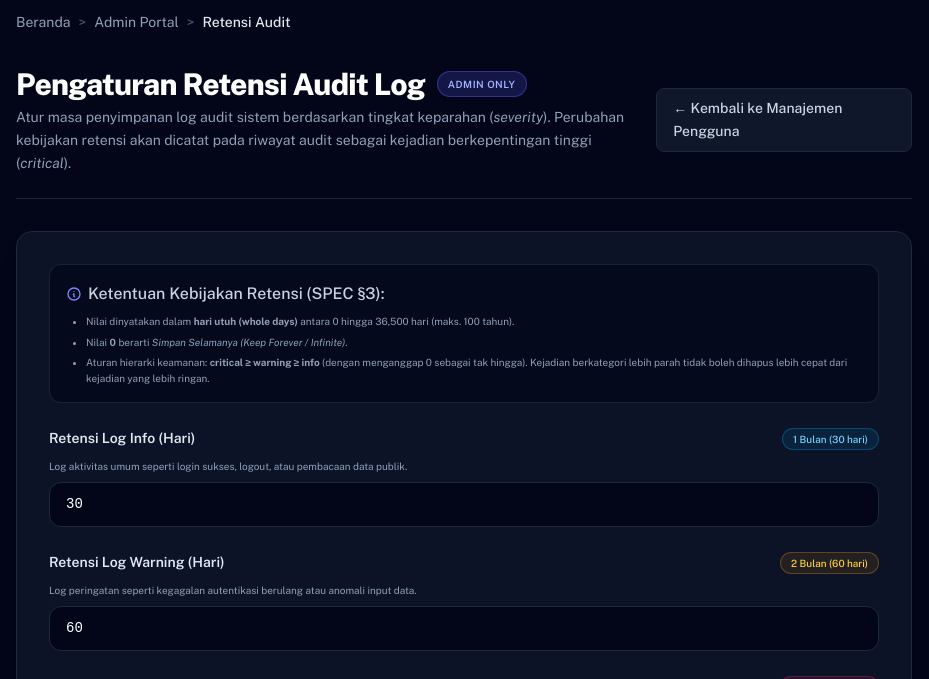
Test case: AuditRetentionSettingsView Client-Side Validation & Error Handling (Non-Happy Path) › renders dash placeholder "—" in duration badge when number input is cleared
Expected: the text with test id "badge-info" reads "1 Bulan (30 hari)", [793,433,868,445]
Note: Clear input
Clear the number field with id "retention-info" at {"x": 464, "y": 505}, box [49,482,879,527]
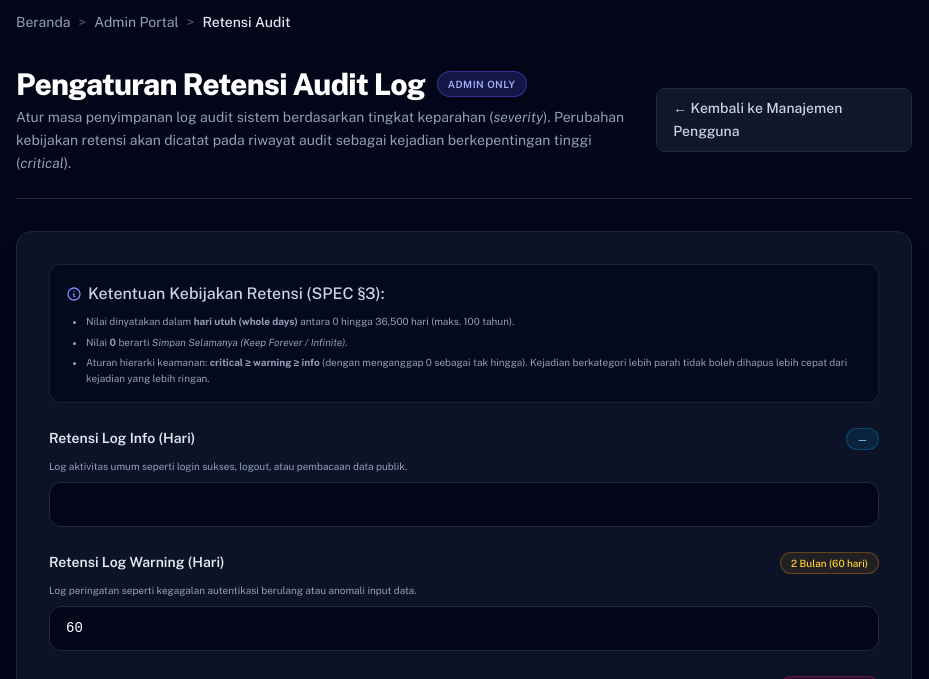
Expected: the element with test id "badge-info" does not show "0 Tahun"
Now the text with test id "badge-info" reads "—", box [857,433,868,445]
